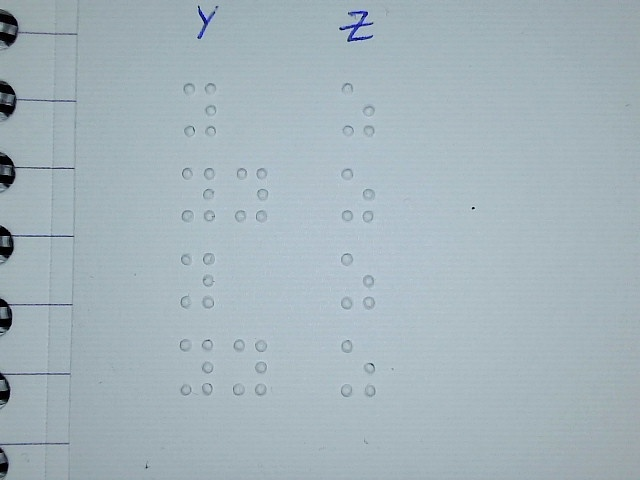Y: (179, 251, 216, 309), (232, 337, 269, 395), (182, 81, 218, 137), (233, 166, 269, 222)
Z: (340, 338, 377, 398), (341, 81, 377, 137), (340, 166, 376, 222), (340, 252, 376, 308)
